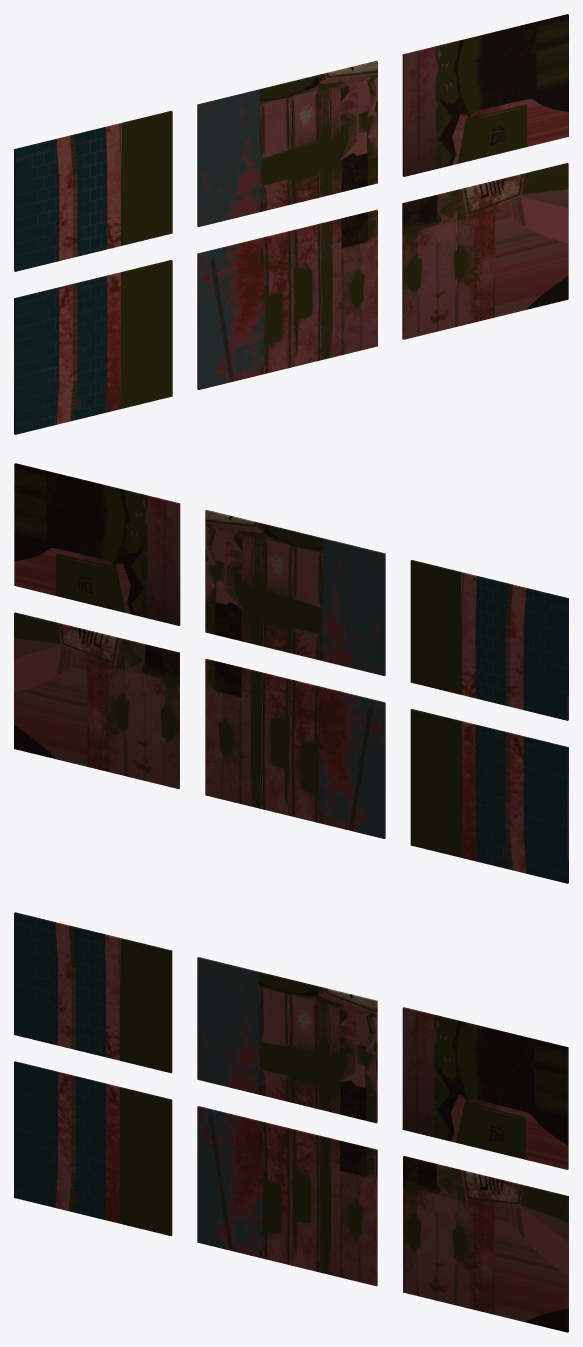
File: JANELNAS DA PAREDE 3M 6 JANELAS.fbx
3 views of the same model, one above another, from view 1: azimuth 30°, elevation 25°; view 2: azimuth 150°, elevation 25°; view 3: azimuth 330°, elevation 25° (orthographic).
Parts seen in each view (by area): view 1: Cube.011; view 2: Cube.011; view 3: Cube.011.
Part boxes in pixels (x1,y1,x2,y2): Cube.011: (14,14,568,434); Cube.011: (14,463,568,883); Cube.011: (14,912,568,1332).
Size of the model in its own units: 270 by 133 by 1.25.
